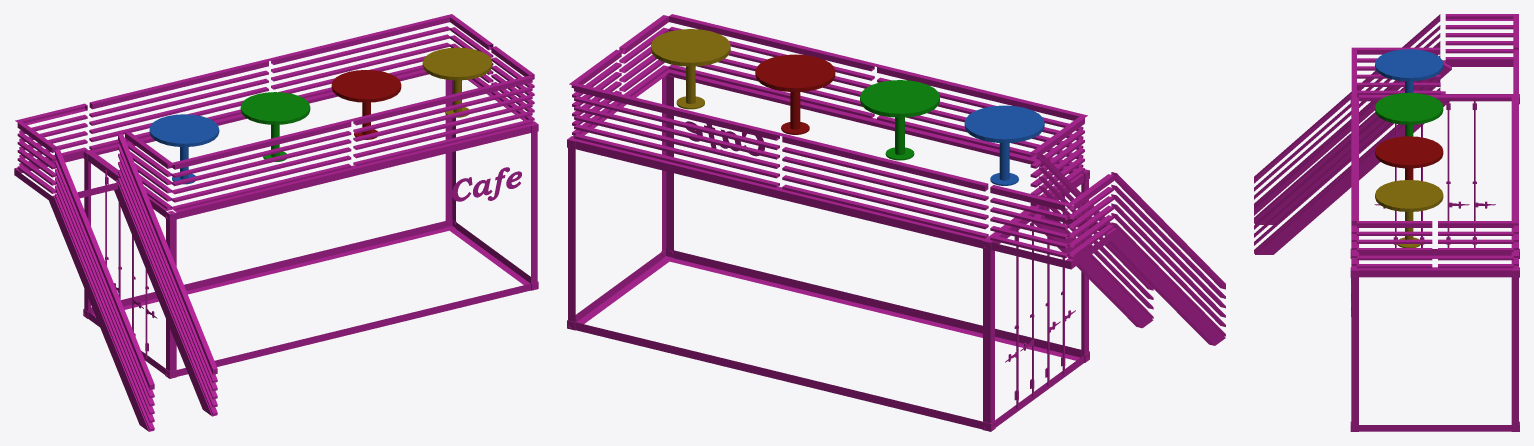
Rendered from estructuraB.obj.
3 views of the same model, side by side, from view 1: azimuth 30°, elevation 25°; view 2: azimuth 150°, elevation 25°; view 3: azimuth 270°, elevation 25° (orthographic). The views are drawn at different scales.
Visible parts, largest first — view 1: Container_cafe_Cube_000, table_set_4_Cube_004, table_set_3_Cube_003, table_set_2_Cube_002, table_set_1_Cube_014; view 2: Container_cafe_Cube_000, table_set_3_Cube_003, table_set_1_Cube_014, table_set_4_Cube_004, table_set_2_Cube_002; view 3: Container_cafe_Cube_000, table_set_4_Cube_004, table_set_3_Cube_003, table_set_2_Cube_002, table_set_1_Cube_014.
Boxes of the visible parts, x1,y1,x2,y2 form: Container_cafe_Cube_000: [14, 14, 538, 431]; table_set_4_Cube_004: [422, 47, 492, 117]; table_set_3_Cube_003: [331, 70, 401, 139]; table_set_2_Cube_002: [240, 92, 310, 161]; table_set_1_Cube_014: [149, 114, 219, 184]; Container_cafe_Cube_000: [567, 14, 1225, 431]; table_set_3_Cube_003: [755, 54, 835, 134]; table_set_1_Cube_014: [964, 105, 1044, 185]; table_set_4_Cube_004: [651, 29, 730, 109]; table_set_2_Cube_002: [860, 80, 939, 160]; Container_cafe_Cube_000: [1254, 14, 1519, 431]; table_set_4_Cube_004: [1375, 180, 1443, 247]; table_set_3_Cube_003: [1375, 136, 1443, 179]; table_set_2_Cube_002: [1375, 92, 1443, 136]; table_set_1_Cube_014: [1375, 49, 1443, 92].
Size of the model in its own units: 7.23 by 3.42 by 3.87.
